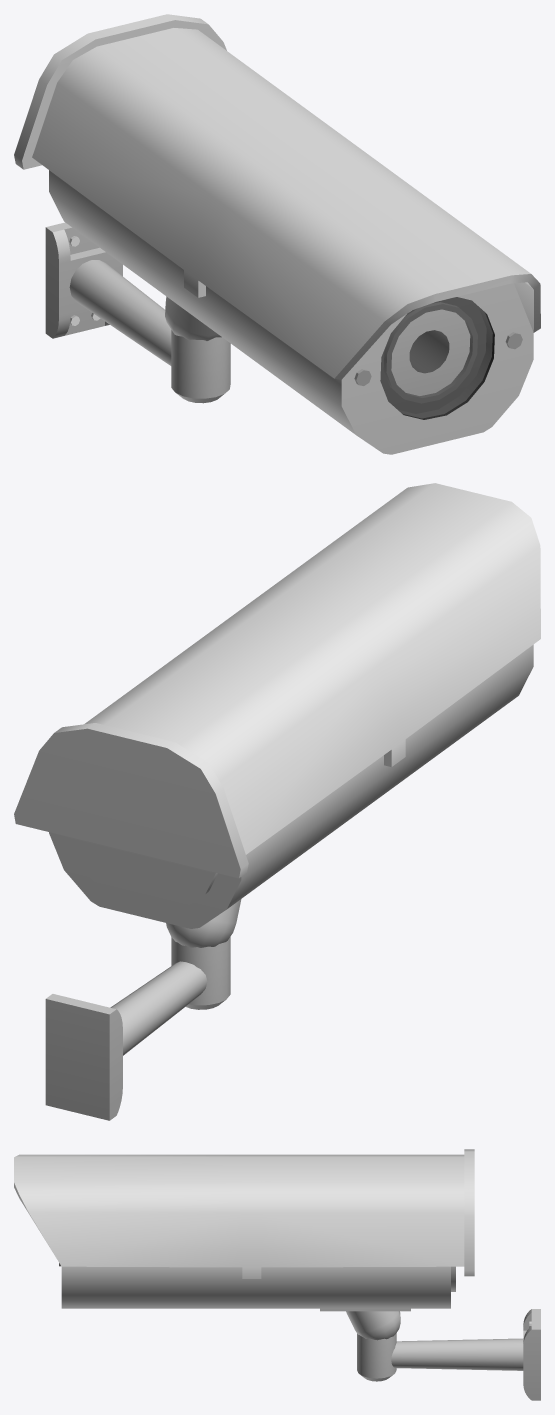
File: cctv_camera_01_base.glb
3 renders of one model, top to bottom at view 1: azimuth 30°, elevation 25°; view 2: azimuth 150°, elevation 25°; view 3: azimuth 270°, elevation 25°, orthographic. The views are drawn at different scales.
Visible parts, largest first — view 1: cctv_camera_01_head, cctv_camera_01_base; view 2: cctv_camera_01_head, cctv_camera_01_base; view 3: cctv_camera_01_head, cctv_camera_01_base.
Boxes of the visible parts, x1,y1,x2,y2 form: cctv_camera_01_head: [14, 14, 540, 454]; cctv_camera_01_base: [45, 222, 230, 403]; cctv_camera_01_head: [14, 483, 540, 947]; cctv_camera_01_base: [45, 937, 230, 1120]; cctv_camera_01_head: [14, 1149, 474, 1340]; cctv_camera_01_base: [357, 1309, 540, 1400].
Size of the model in its own units: 0.1474 by 0.2102 by 0.4458.
3 materials, 2 textured.
